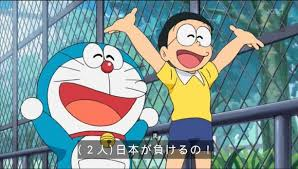doraemon: (20, 41, 160, 169)
